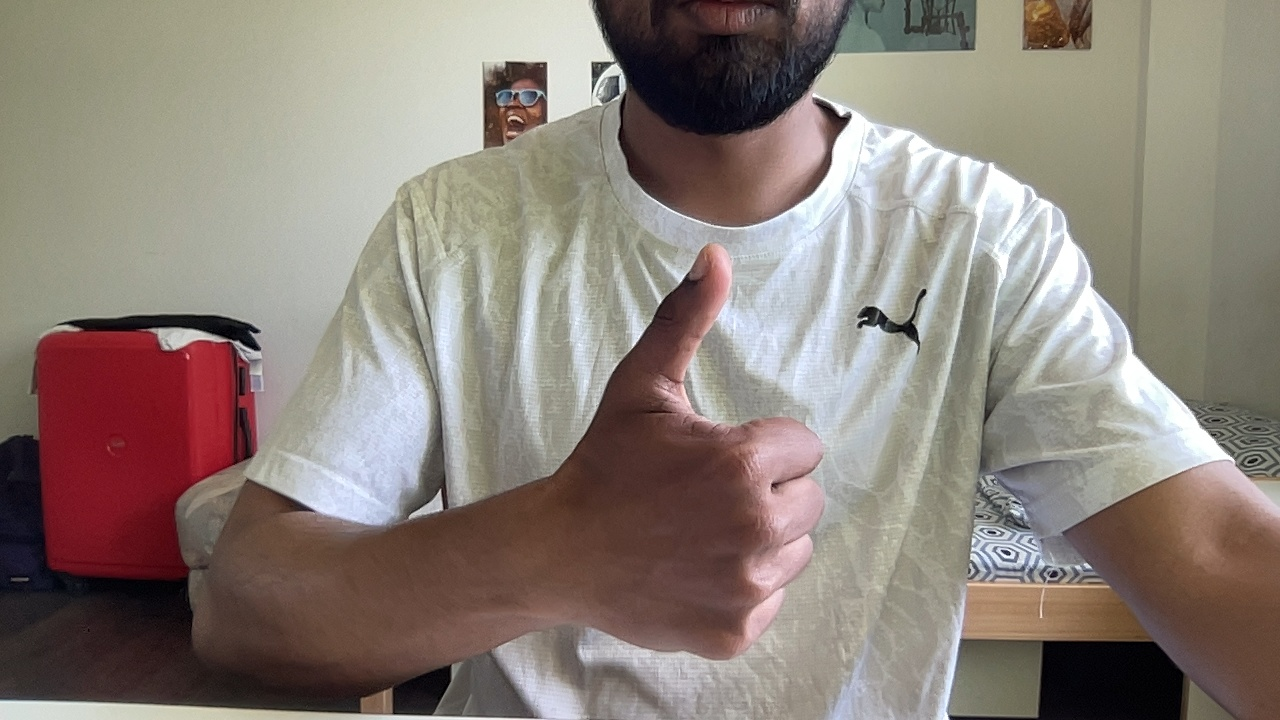ThumbsUp: (577, 241, 823, 659)
